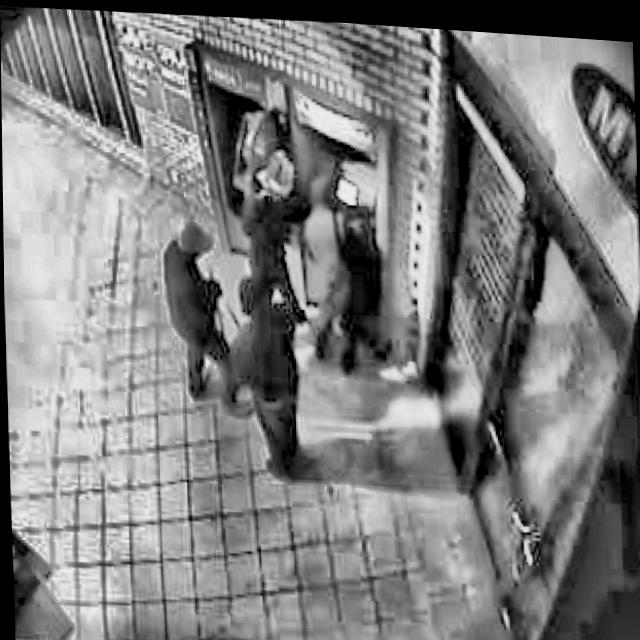burglary: (150, 81, 389, 430)
